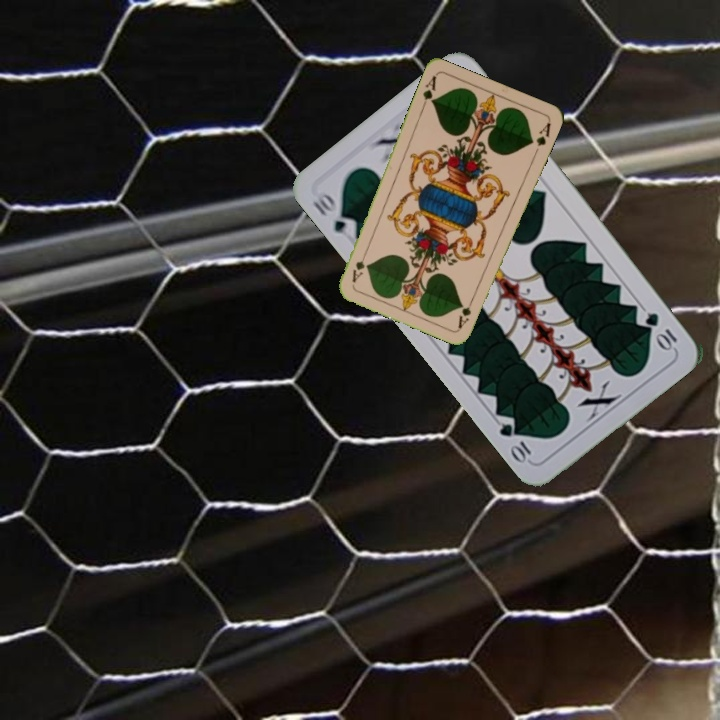G10: (309, 186, 360, 236), (641, 308, 680, 353)
GA: (454, 292, 477, 330), (418, 72, 439, 111)
